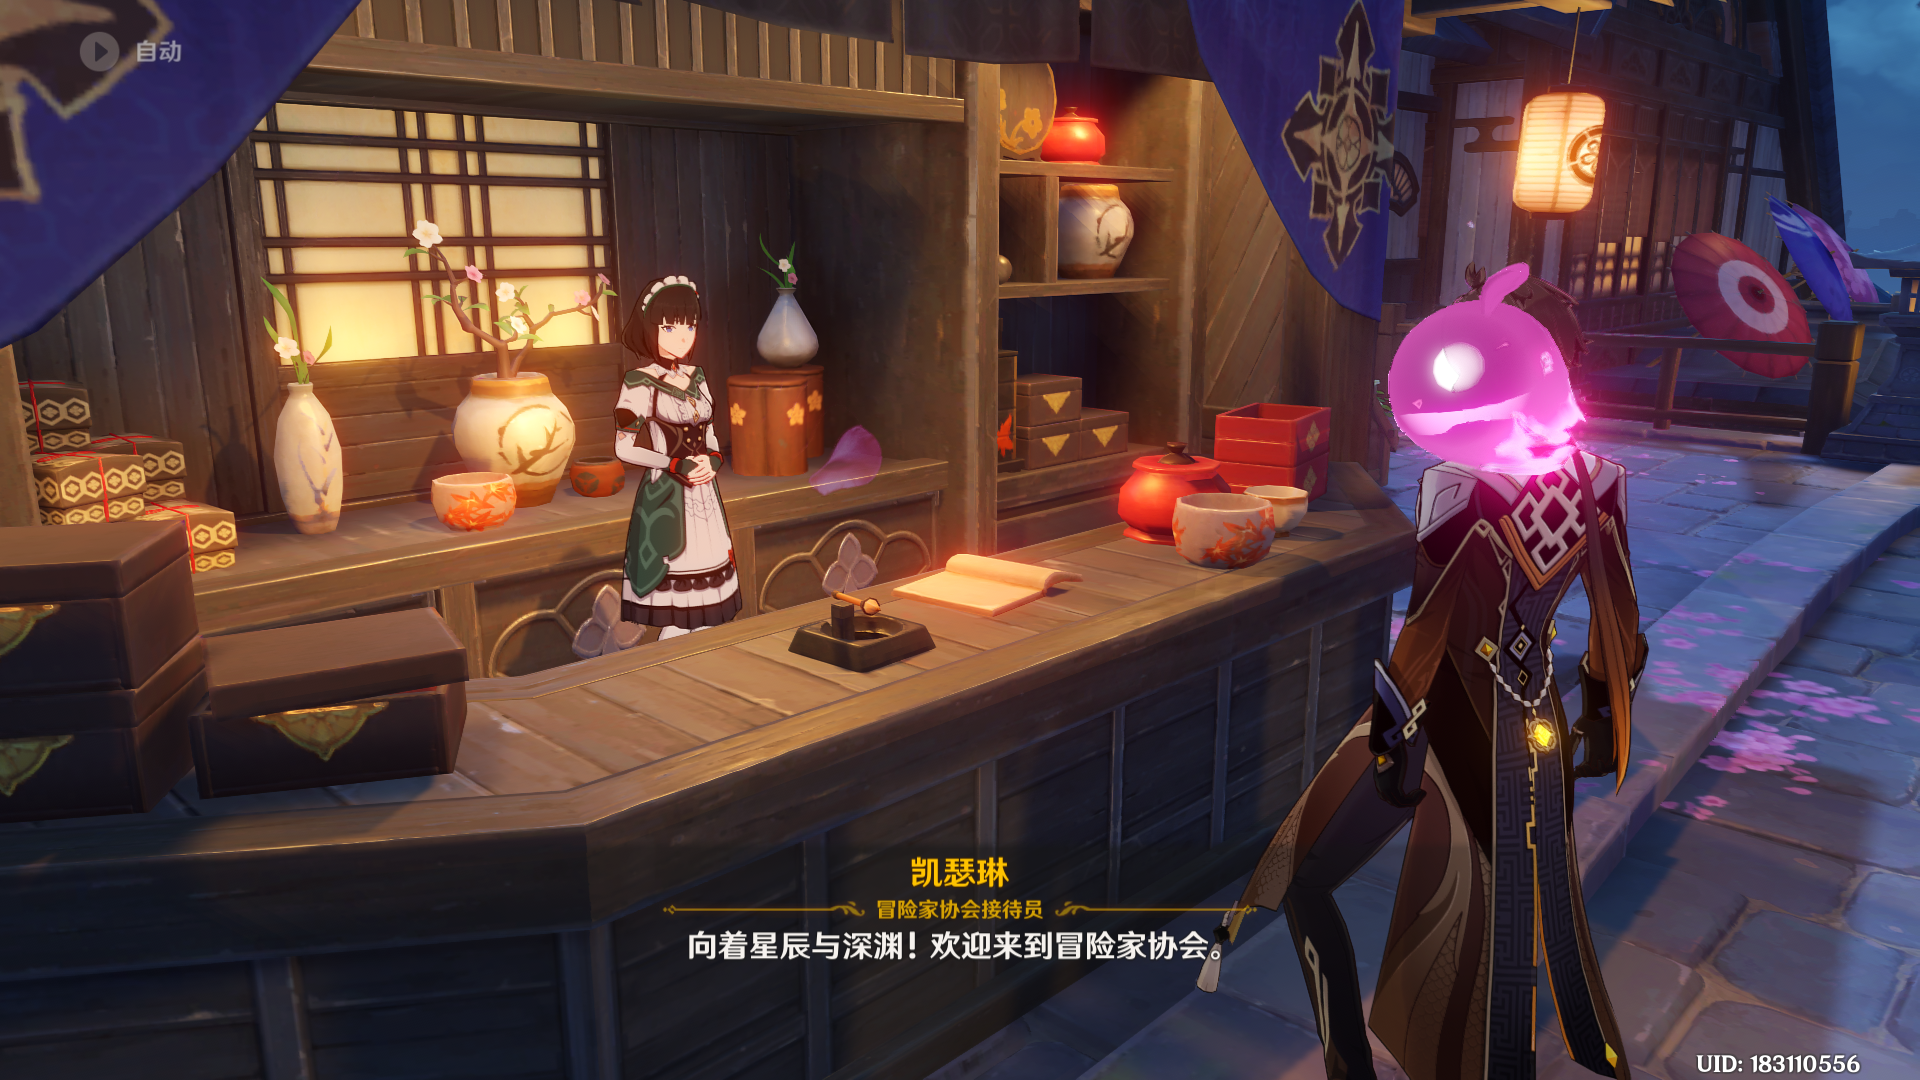character: (1244, 229, 1726, 1080), (558, 249, 814, 682)
